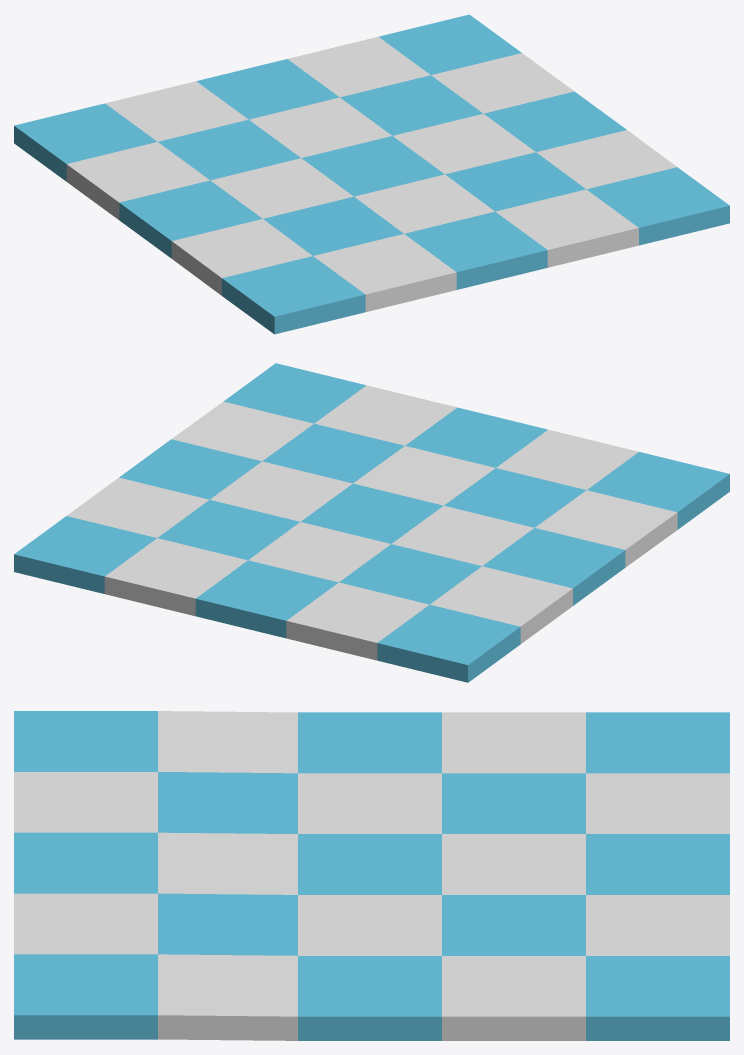
Rendered from chao.fbx.
The picture shows the model from 3 angles, top to bottom: view 1: azimuth 30°, elevation 25°; view 2: azimuth 150°, elevation 25°; view 3: azimuth 270°, elevation 25°; orthographic projection. The views are drawn at different scales.
Parts seen in each view (by area): view 1: Plane; view 2: Plane; view 3: Plane.
Boxes of the visible parts, left/top/right/bottom form: Plane: left=14, top=14, right=729, bottom=334; Plane: left=14, top=363, right=729, bottom=682; Plane: left=14, top=711, right=729, bottom=1040.
Bounding box in the file's own units: 1002 × 38.38 × 995.
